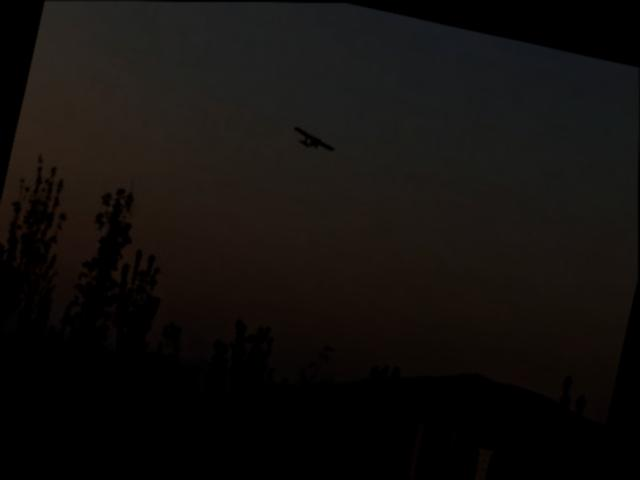uav: (284, 115, 342, 165)
